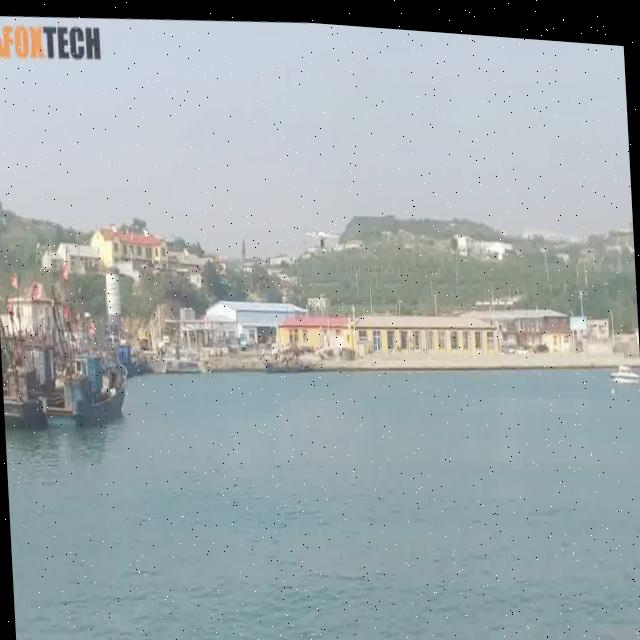drone: (300, 205, 346, 258)
